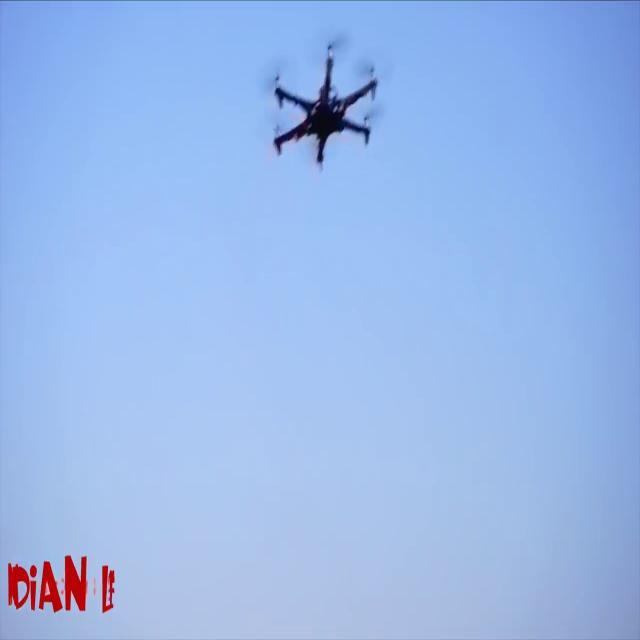drone: (245, 21, 398, 190)
